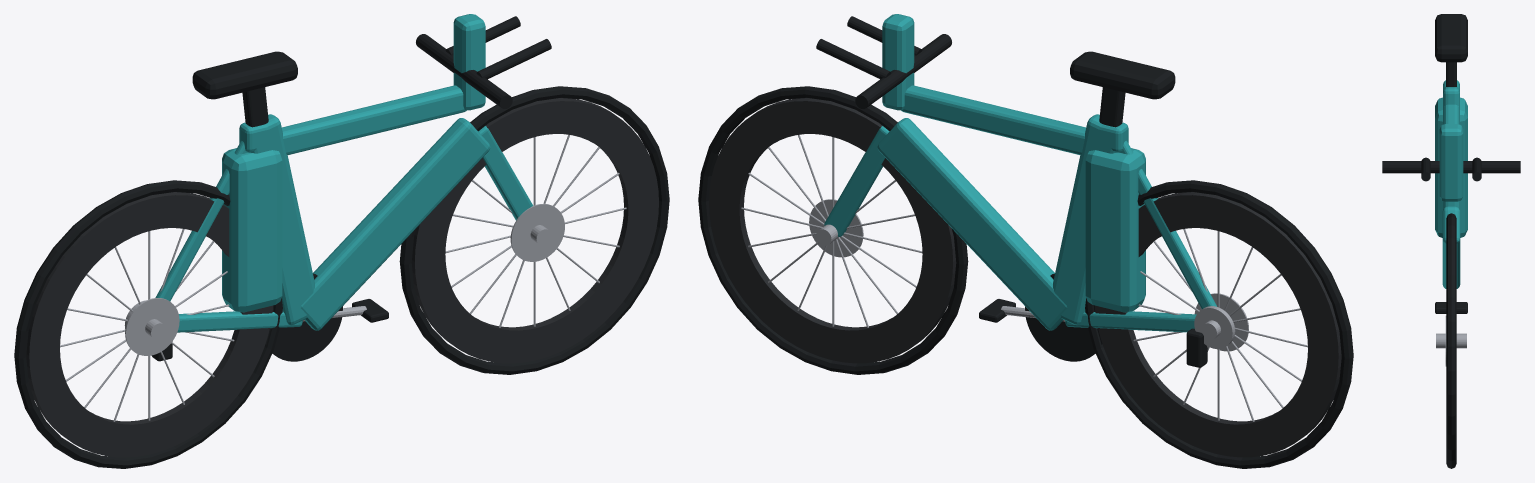
Rendered from orbea-ordu-current-sm.glb.
3 renders of one model, left to right at view 1: azimuth 30°, elevation 25°; view 2: azimuth 150°, elevation 25°; view 3: azimuth 270°, elevation 25°, orthographic. The views are drawn at different scales.
Parts seen in each view (by area): view 1: orbea-ordu-current-sm_FRONT_WHEEL_RIM, orbea-ordu-current-sm_REAR_WHEEL_RIM, orbea-ordu-current-sm_DOWN_TUBE, orbea-ordu-current-sm_ORDU_REAR_MAST, orbea-ordu-current-sm_REAR_WHEEL_TIRE, orbea-ordu-current-sm_FRONT_WHEEL_TIRE, orbea-ordu-current-sm_TOP_TUBE, orbea-ordu-current-sm, orbea-ordu-current-sm_SEAT_TUBE, orbea-ordu-current-sm_SADDLE, orbea-ordu-current-sm_ORDU_FRONT_POST, orbea-ordu-current-sm_REAR_ROTOR (+9 smaller); view 2: orbea-ordu-current-sm_FRONT_WHEEL_RIM, orbea-ordu-current-sm_REAR_WHEEL_RIM, orbea-ordu-current-sm_DOWN_TUBE, orbea-ordu-current-sm_ORDU_REAR_MAST, orbea-ordu-current-sm_REAR_WHEEL_TIRE, orbea-ordu-current-sm_FRONT_WHEEL_TIRE, orbea-ordu-current-sm, orbea-ordu-current-sm_TOP_TUBE, orbea-ordu-current-sm_SEAT_TUBE, orbea-ordu-current-sm_SADDLE, orbea-ordu-current-sm_ORDU_FRONT_POST, orbea-ordu-current-sm_FORK_L (+10 smaller); view 3: orbea-ordu-current-sm_FRONT_WHEEL_TIRE, orbea-ordu-current-sm_ORDU_FRONT_POST, orbea-ordu-current-sm_ORDU_REAR_MAST, orbea-ordu-current-sm_SADDLE, orbea-ordu-current-sm_AERO_BASE, orbea-ordu-current-sm_DOWN_TUBE, orbea-ordu-current-sm_SEAT_TUBE, orbea-ordu-current-sm_FRONT_WHEEL_HUB, orbea-ordu-current-sm_TOP_TUBE, orbea-ordu-current-sm_PEDAL, orbea-ordu-current-sm_SEATPOST, orbea-ordu-current-sm_EXT_L (+1 smaller).
Part boxes in pixels (<box>): orbea-ordu-current-sm_FRONT_WHEEL_RIM: <box>411,98,658,363</box>; orbea-ordu-current-sm_REAR_WHEEL_RIM: <box>26,192,272,457</box>; orbea-ordu-current-sm_DOWN_TUBE: <box>300,118,490,330</box>; orbea-ordu-current-sm_ORDU_REAR_MAST: <box>222,148,282,312</box>; orbea-ordu-current-sm_REAR_WHEEL_TIRE: <box>14,180,282,468</box>; orbea-ordu-current-sm_FRONT_WHEEL_TIRE: <box>399,86,669,374</box>; orbea-ordu-current-sm_TOP_TUBE: <box>282,85,466,154</box>; orbea-ordu-current-sm: <box>60,135,626,421</box>; orbea-ordu-current-sm_SEAT_TUBE: <box>251,114,314,325</box>; orbea-ordu-current-sm_SADDLE: <box>192,51,297,99</box>; orbea-ordu-current-sm_ORDU_FRONT_POST: <box>453,14,485,110</box>; orbea-ordu-current-sm_REAR_ROTOR: <box>125,298,179,355</box>; orbea-ordu-current-sm_FRONT_WHEEL_RIM: <box>709,98,956,363</box>; orbea-ordu-current-sm_REAR_WHEEL_RIM: <box>1095,192,1341,457</box>; orbea-ordu-current-sm_DOWN_TUBE: <box>877,118,1067,330</box>; orbea-ordu-current-sm_ORDU_REAR_MAST: <box>1085,148,1145,312</box>; orbea-ordu-current-sm_REAR_WHEEL_TIRE: <box>1085,180,1353,468</box>; orbea-ordu-current-sm_FRONT_WHEEL_TIRE: <box>698,86,968,374</box>; orbea-ordu-current-sm: <box>741,135,1307,421</box>; orbea-ordu-current-sm_TOP_TUBE: <box>901,85,1085,154</box>; orbea-ordu-current-sm_SEAT_TUBE: <box>1053,114,1116,325</box>; orbea-ordu-current-sm_SADDLE: <box>1070,51,1175,99</box>; orbea-ordu-current-sm_ORDU_FRONT_POST: <box>882,14,914,110</box>; orbea-ordu-current-sm_FORK_L: <box>824,126,889,236</box>; orbea-ordu-current-sm_FRONT_WHEEL_TIRE: <box>1446,213,1456,468</box>; orbea-ordu-current-sm_ORDU_FRONT_POST: <box>1439,124,1463,201</box>; orbea-ordu-current-sm_ORDU_REAR_MAST: <box>1435,97,1467,237</box>; orbea-ordu-current-sm_SADDLE: <box>1435,14,1467,62</box>; orbea-ordu-current-sm_AERO_BASE: <box>1382,161,1520,173</box>; orbea-ordu-current-sm_DOWN_TUBE: <box>1442,206,1460,288</box>; orbea-ordu-current-sm_SEAT_TUBE: <box>1443,86,1459,209</box>; orbea-ordu-current-sm_FRONT_WHEEL_HUB: <box>1436,333,1466,348</box>; orbea-ordu-current-sm_TOP_TUBE: <box>1444,104,1458,124</box>; orbea-ordu-current-sm_PEDAL: <box>1435,302,1467,313</box>; orbea-ordu-current-sm_SEATPOST: <box>1446,62,1456,86</box>; orbea-ordu-current-sm_EXT_L: <box>1421,157,1430,181</box>.
Size of the model in its own units: 1.71 by 0.9395 by 0.38.
